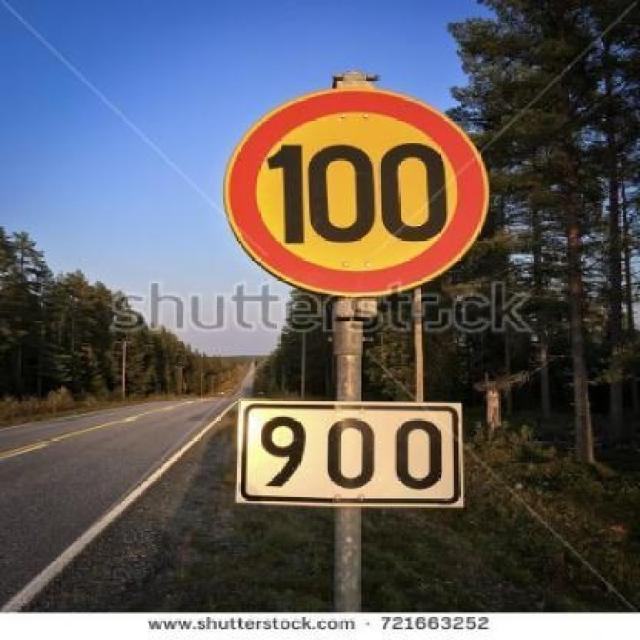forb_speed_over_100: (228, 90, 487, 295)
